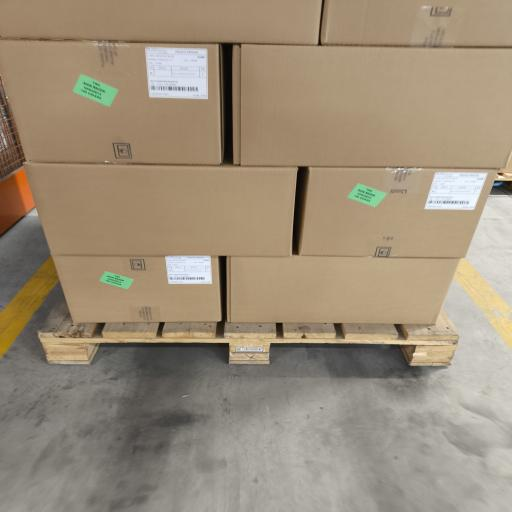pallet: (39, 301, 459, 366), (495, 172, 511, 181)
